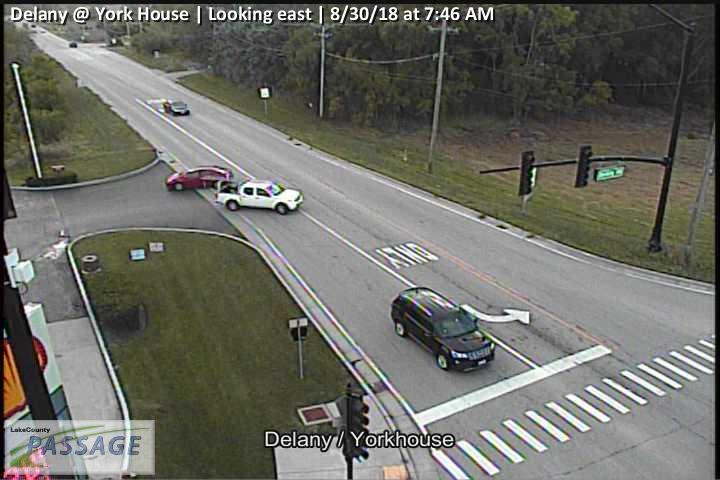SUV: (391, 287, 496, 371)
Sedan: (163, 163, 234, 189), (162, 98, 191, 115)
Truck: (213, 178, 304, 215)
